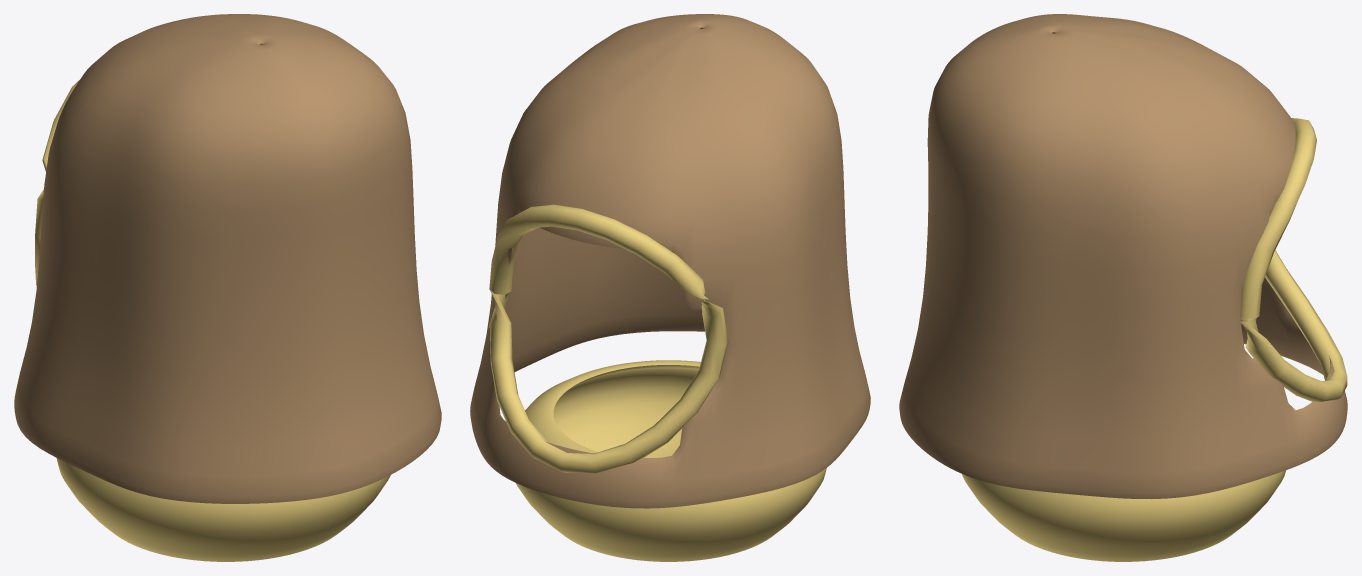
The model's file is helm_kapuze2.glb.
3 views of the same model, side by side, from view 1: azimuth 30°, elevation 25°; view 2: azimuth 150°, elevation 25°; view 3: azimuth 270°, elevation 25° (orthographic). The views are drawn at different scales.
Parts seen in each view (by area): view 1: G_helm_kapuze2; view 2: G_helm_kapuze2; view 3: G_helm_kapuze2.
Part boxes in pixels (x1=…): G_helm_kapuze2: x1=14, y1=14, x2=441, y2=561; G_helm_kapuze2: x1=470, y1=14, x2=870, y2=561; G_helm_kapuze2: x1=899, y1=14, x2=1347, y2=561.
Size of the model in its own units: 0.2931 by 0.3839 by 0.3242.
